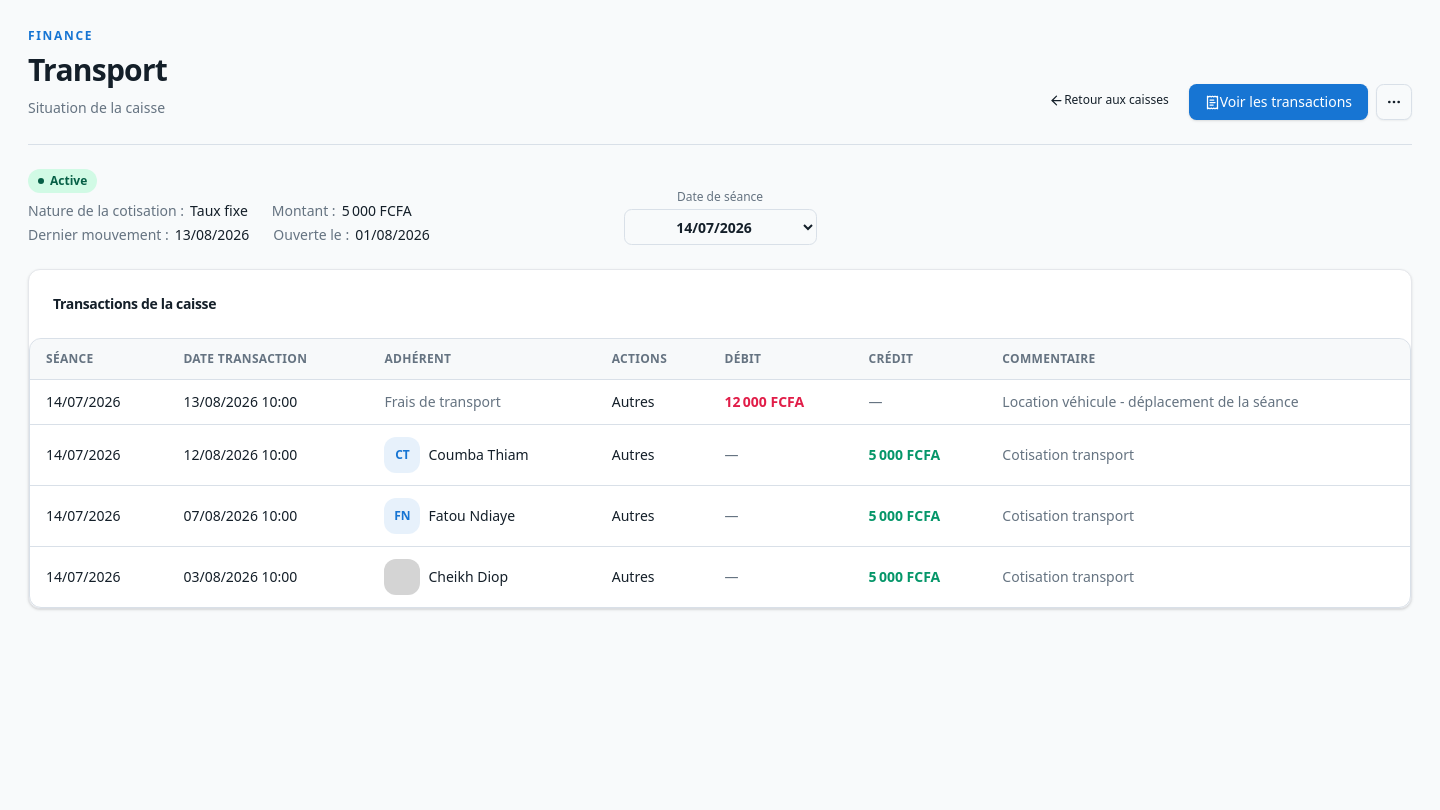
Test case: Caisse — cycle de vie depuis l’interface › archiver depuis la fiche : confirmation, caisse archivée consultable, plus de « Modifier », seul « Désarchiver »
The width and height of the screenshot is (1440, 810).
Expected: the heading "Transport" is shown, [28,52,167,88]
Click the button named "Actions de la caisse" at (1394, 102), box [1376,84,1412,120]
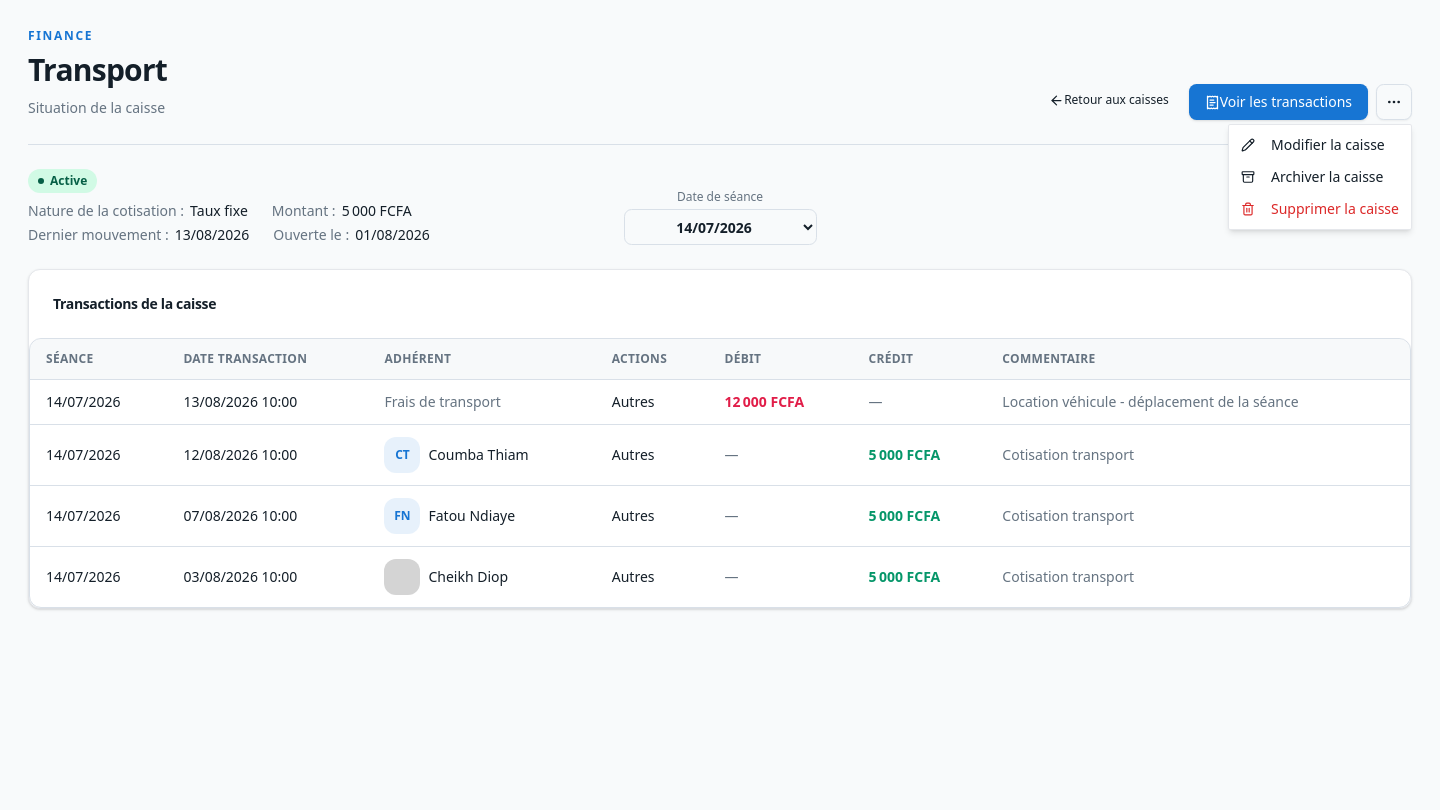
Click the menu item "Archiver la caisse" at (1312, 176), box [1241,167,1384,186]
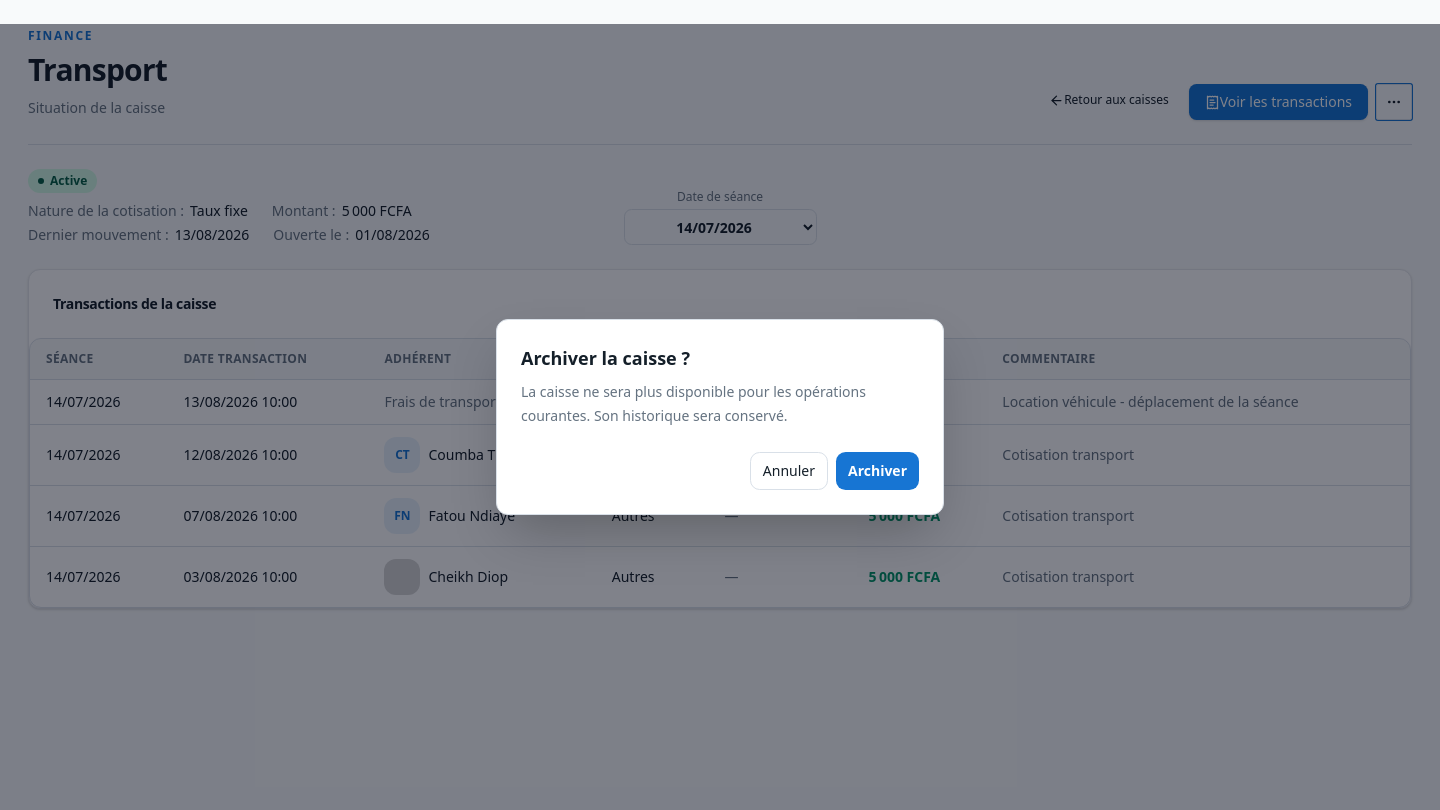
Now the dialog shows "La caisse ne sera plus disponible pour les opérations courantes. Son historique sera conservé.", box [521,382,866,425]
Click the button "Archiver" at (878, 471), box [836,452,919,490]
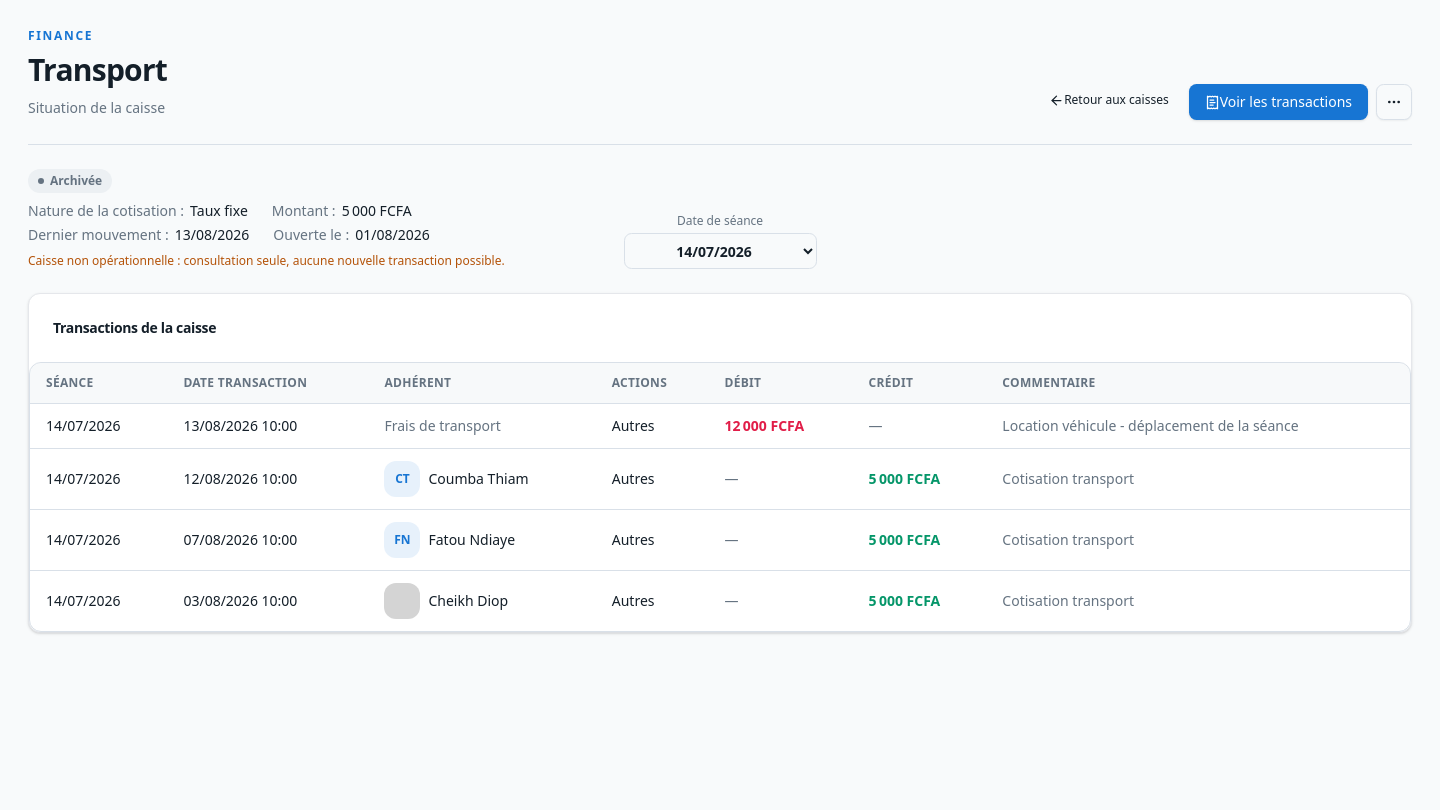
Expected: the heading "Transport" is shown, [28,52,167,88]
Click the button named "Actions de la caisse" at (1394, 102), box [1376,84,1412,120]
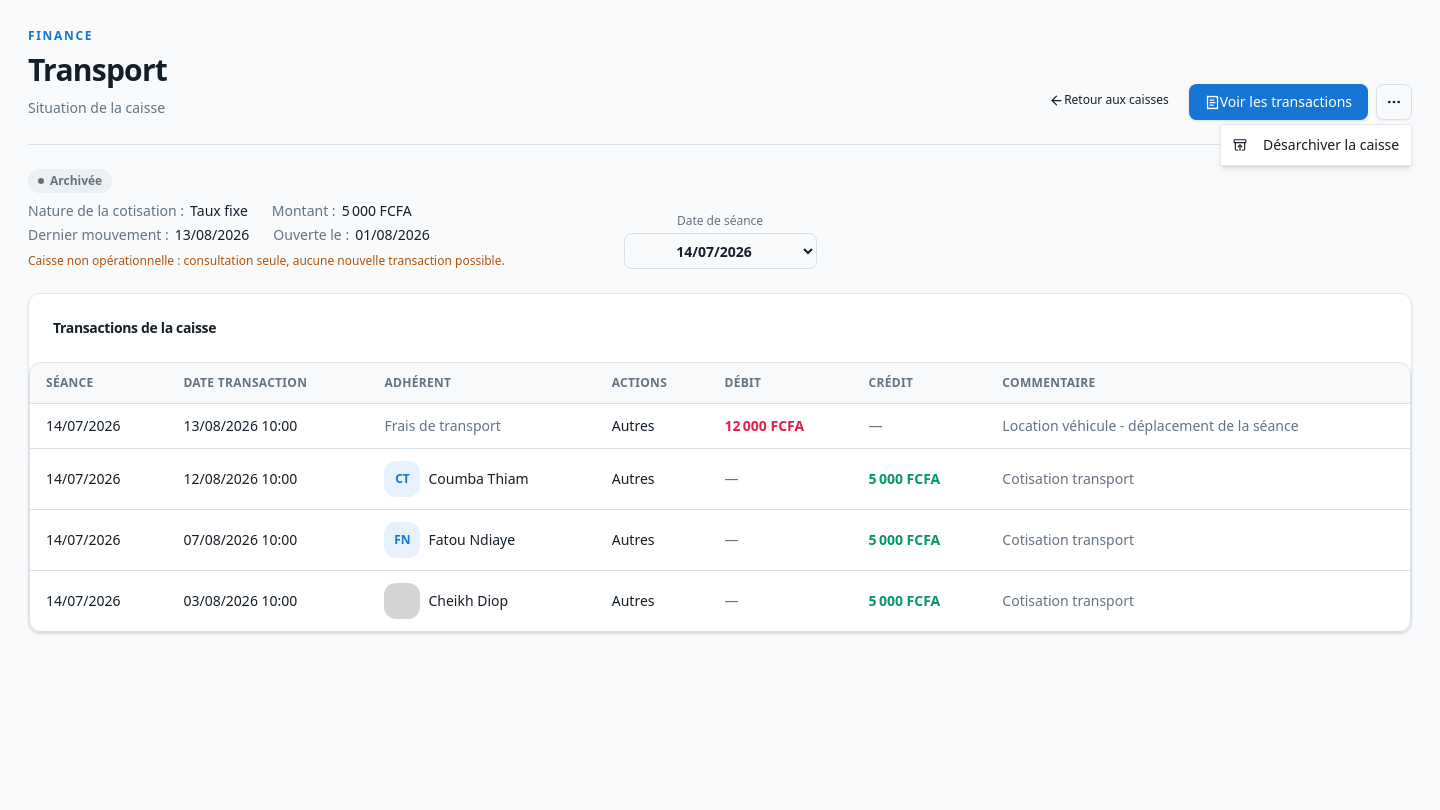
Now the menu item does not show "Modifier la caisse"
Now the menu item reads "Désarchiver la caisse", box [1233,135,1399,154]
